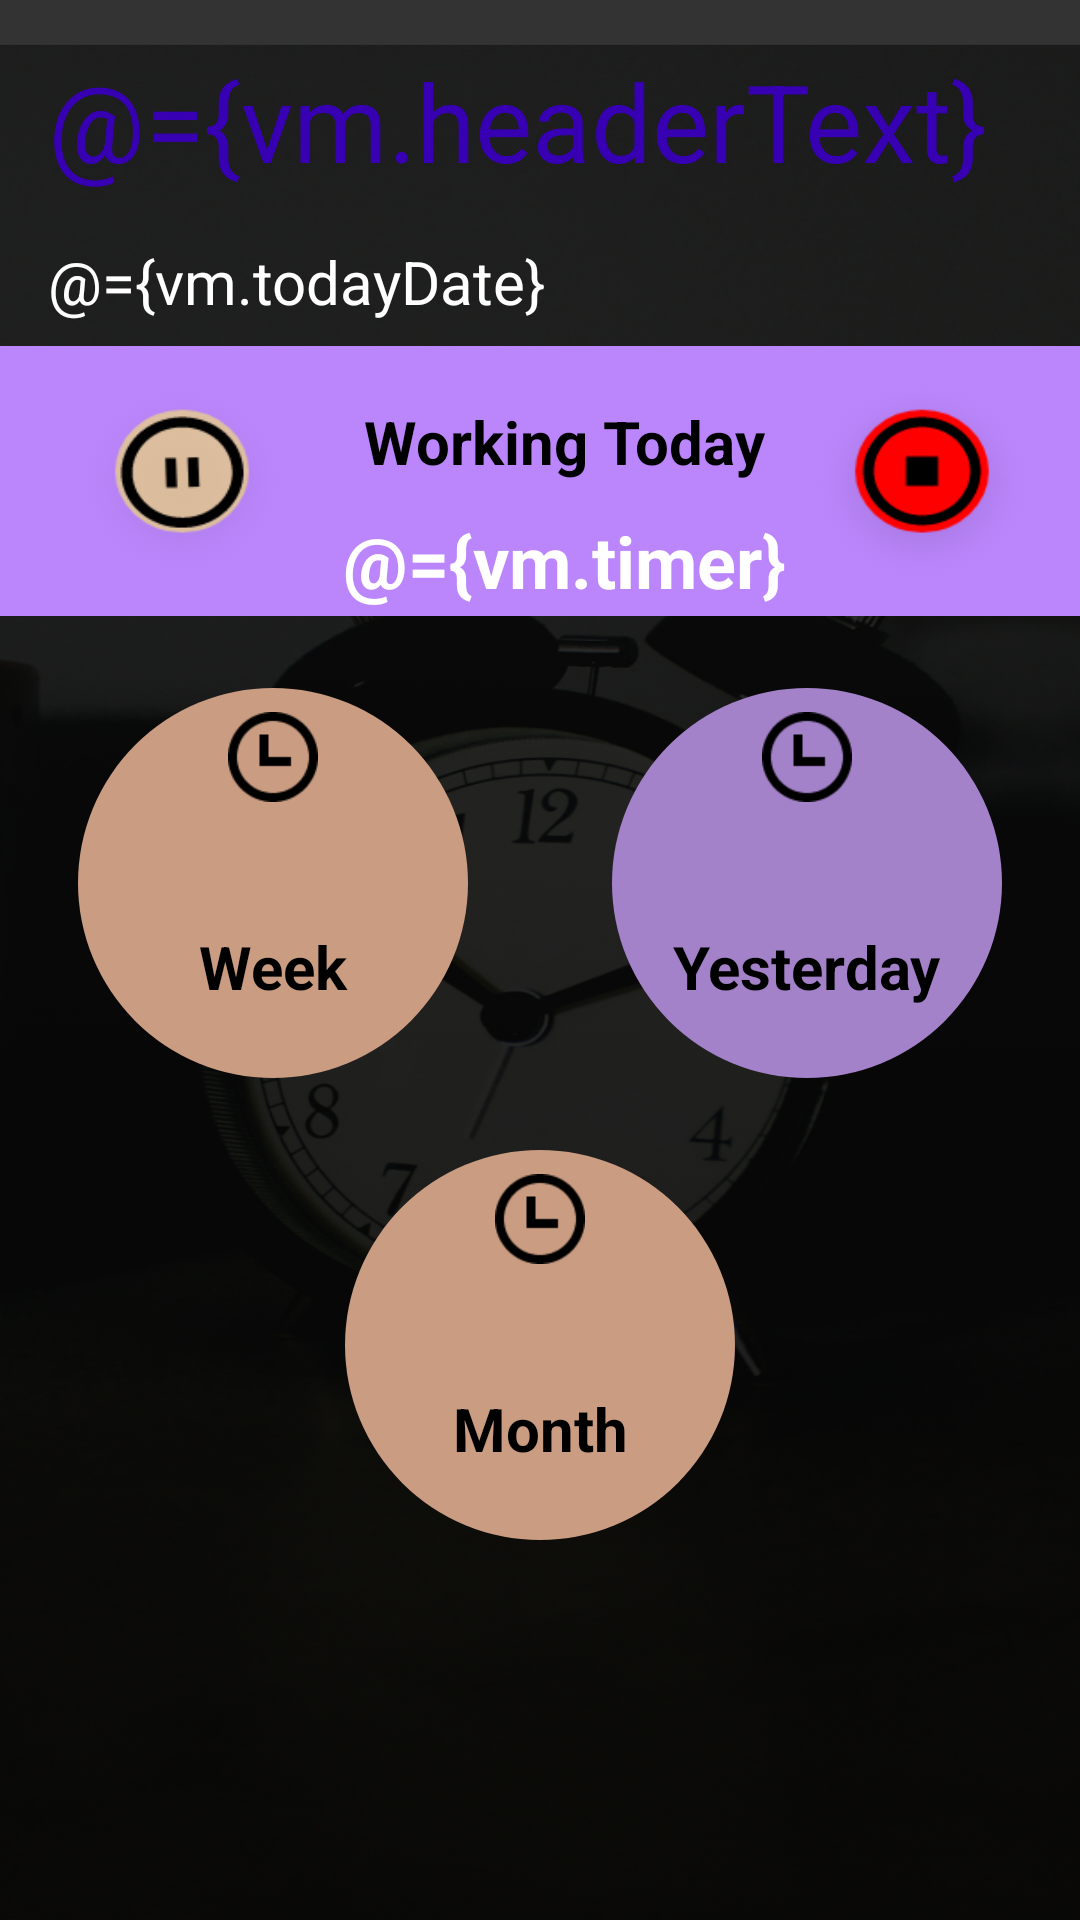

Icons on this 1080×1920 Android screen, each with its box as (left=x1, top=y1, right=x2, bottom=y2):
pause: (left=115, top=409, right=249, bottom=533)
stop: (left=854, top=409, right=990, bottom=533)
